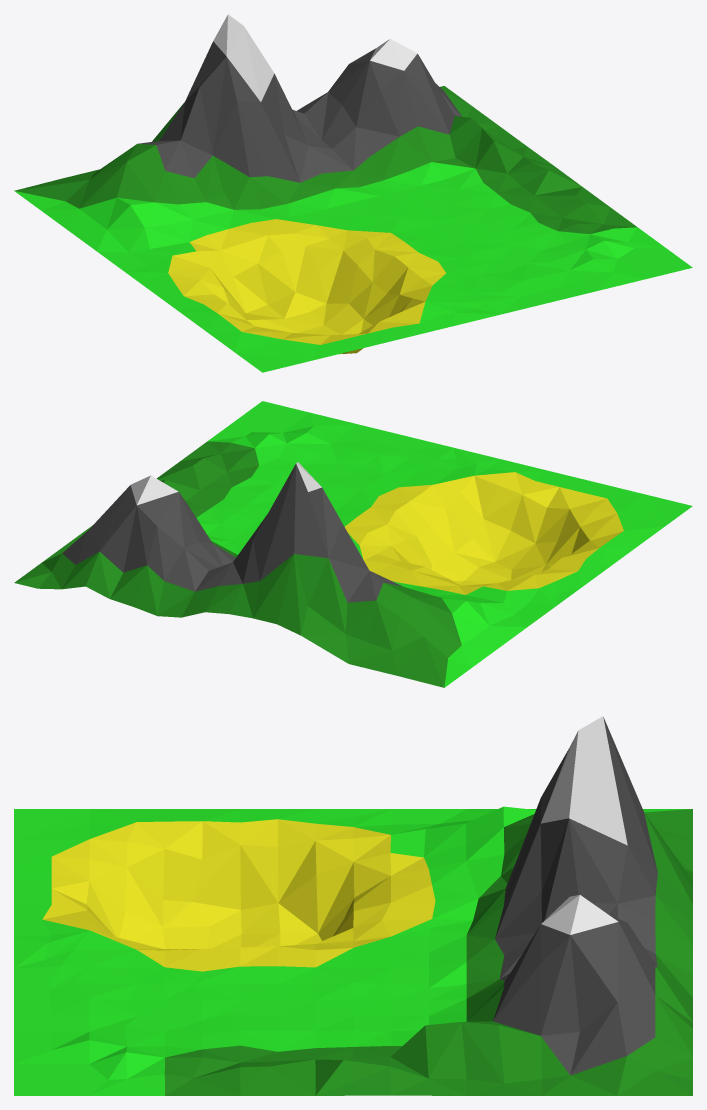
The model's file is Terrain1.fbx.
The picture shows the model from 3 angles, top to bottom: view 1: azimuth 30°, elevation 25°; view 2: azimuth 150°, elevation 25°; view 3: azimuth 270°, elevation 25°; orthographic projection. The views are drawn at different scales.
Parts seen in each view (by area): view 1: Terrain1; view 2: Terrain1; view 3: Terrain1.
Part boxes in pixels (x1,y1,x2,y2): Terrain1: (14,14,692,372); Terrain1: (14,401,692,687); Terrain1: (14,716,692,1095).
Size of the model in its own units: 10000 by 4670 by 10000.
